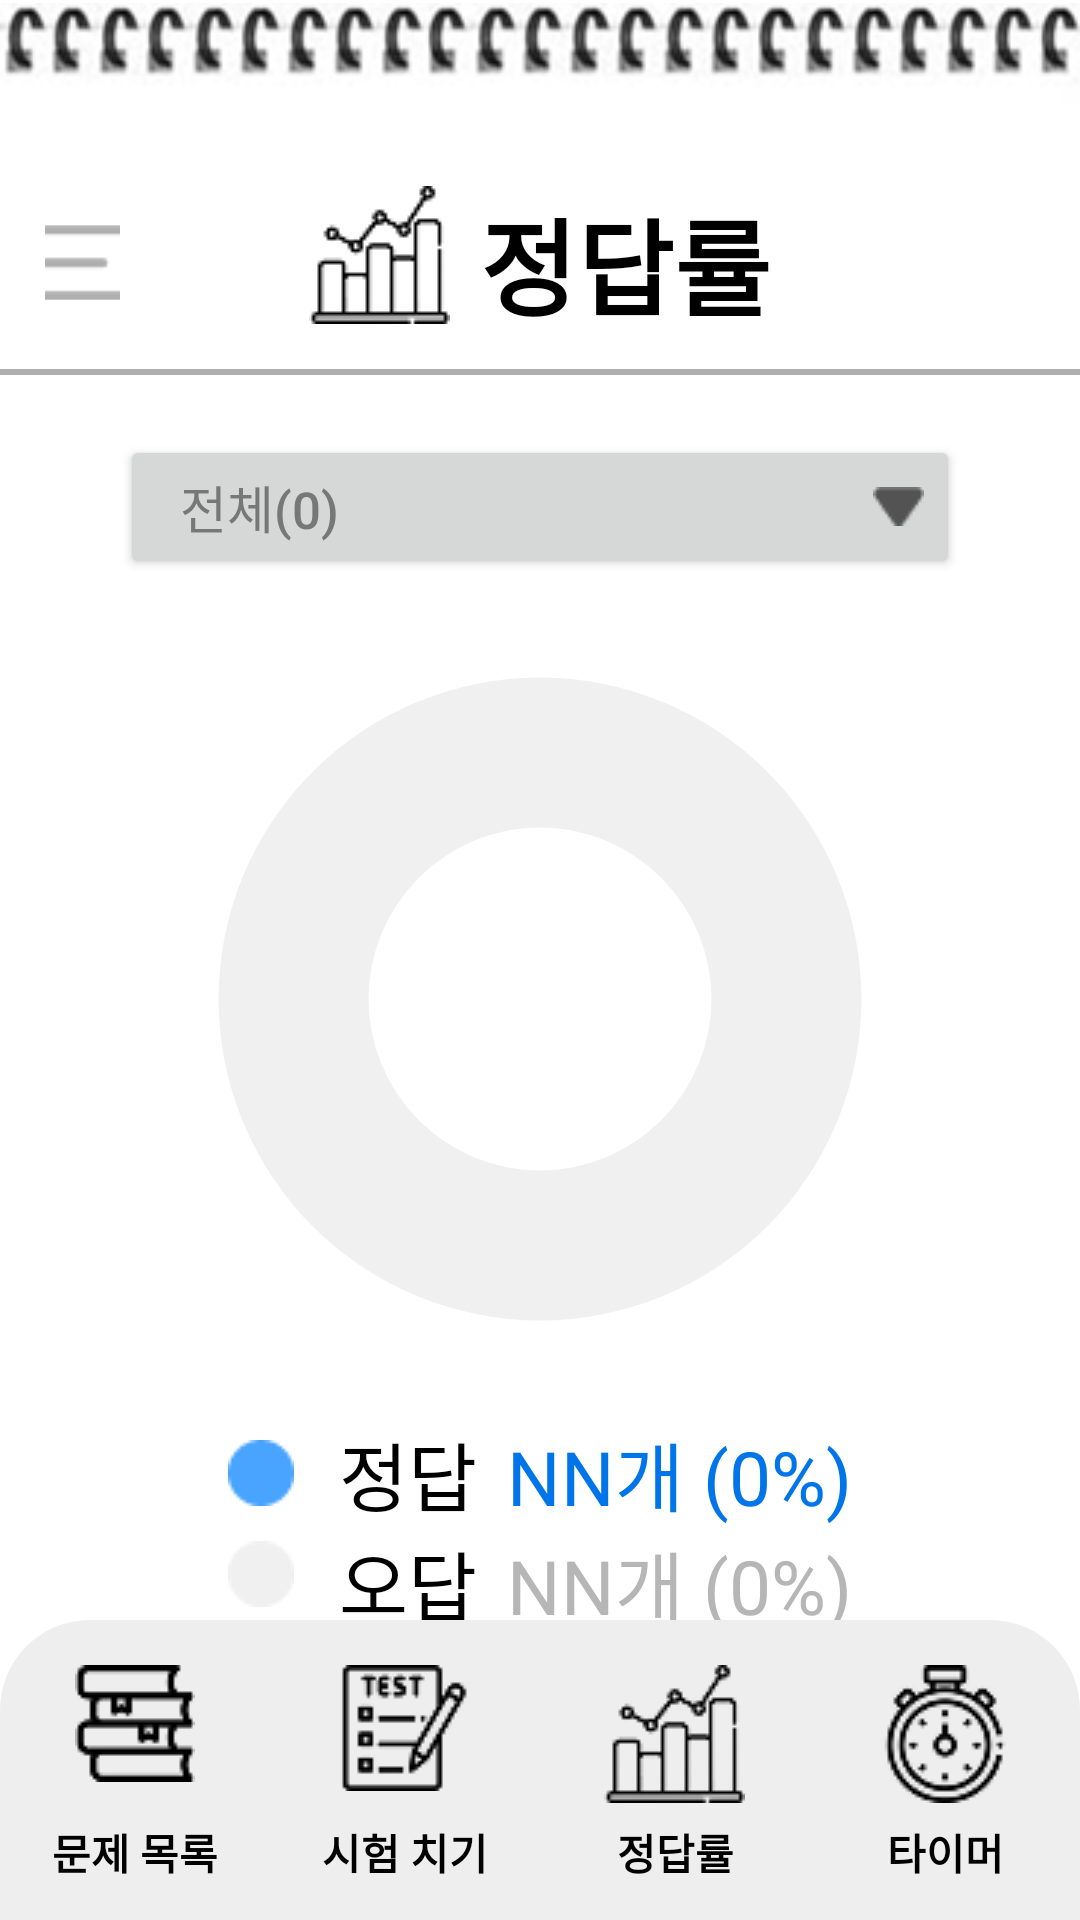

Icon bounding boxes for this 1080×1920 phone screenshot, format detection(x1, y1, x2, y2):
hamburger: detection(45, 225, 120, 300)
